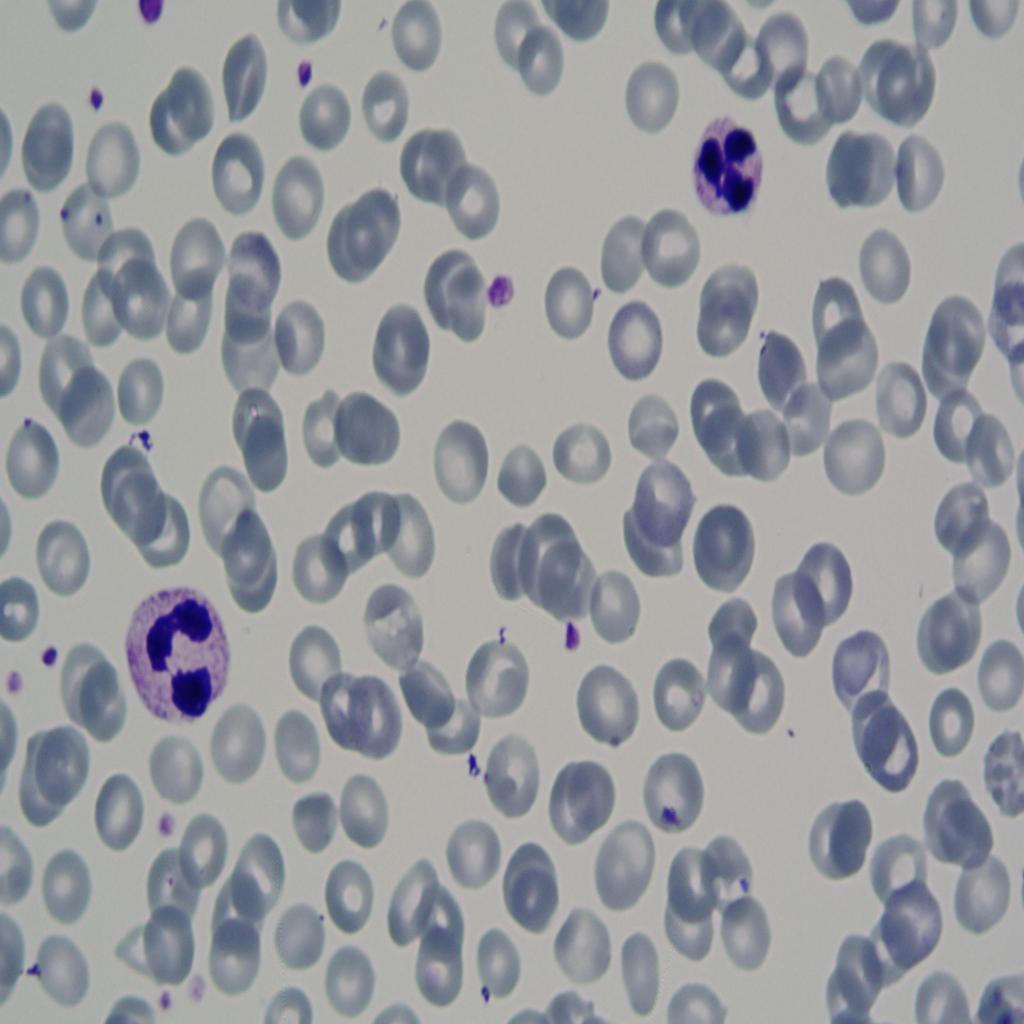Neutrofil: (120, 573, 241, 727), (694, 115, 768, 229)
Platelet: (484, 260, 520, 316), (292, 41, 323, 102), (558, 602, 588, 650), (39, 629, 66, 679), (130, 0, 168, 28), (149, 984, 177, 1016), (158, 802, 177, 846), (83, 78, 103, 112), (4, 664, 24, 694)
